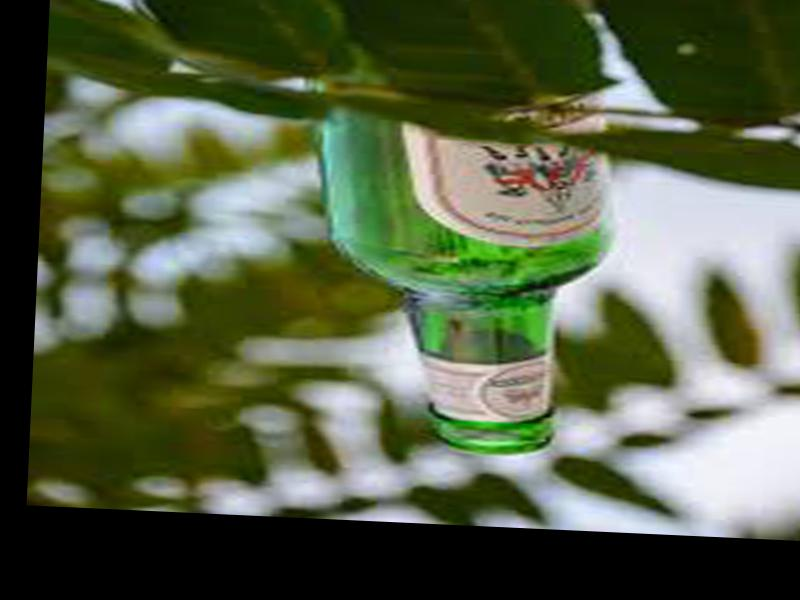Beer: (309, 73, 615, 459)
